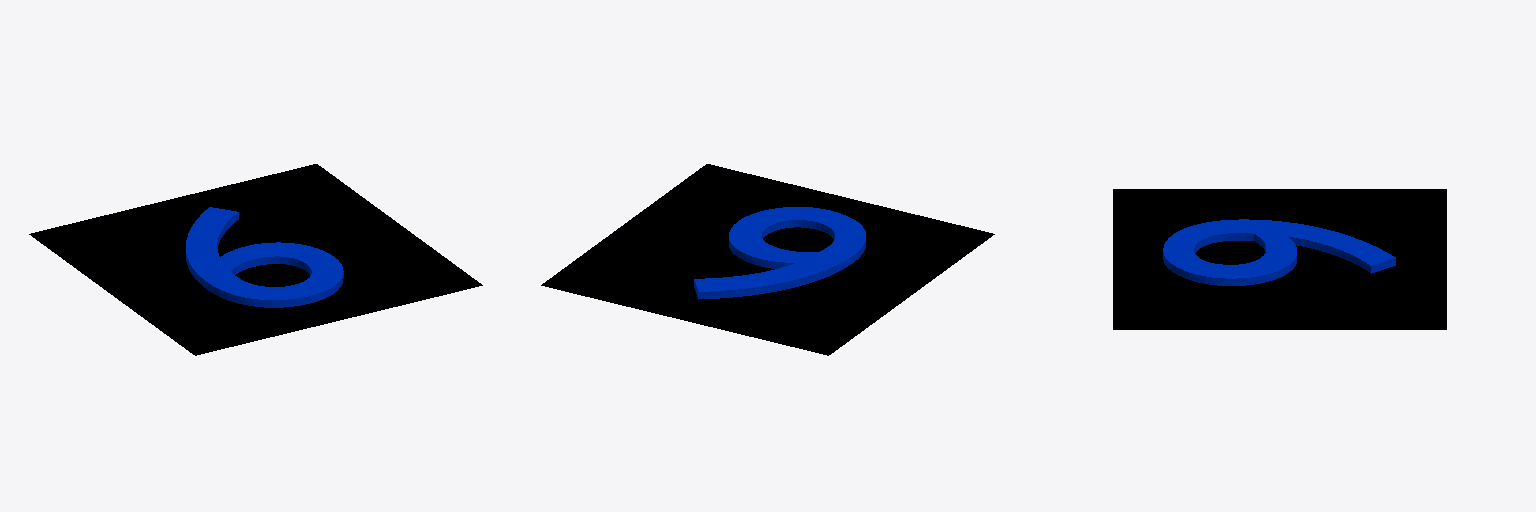
Rendered from TileSix.obj.
3 views of the same model, side by side, from view 1: azimuth 30°, elevation 25°; view 2: azimuth 150°, elevation 25°; view 3: azimuth 270°, elevation 25° (orthographic).
Size of the model in its own units: 20 by 0.5 by 20.